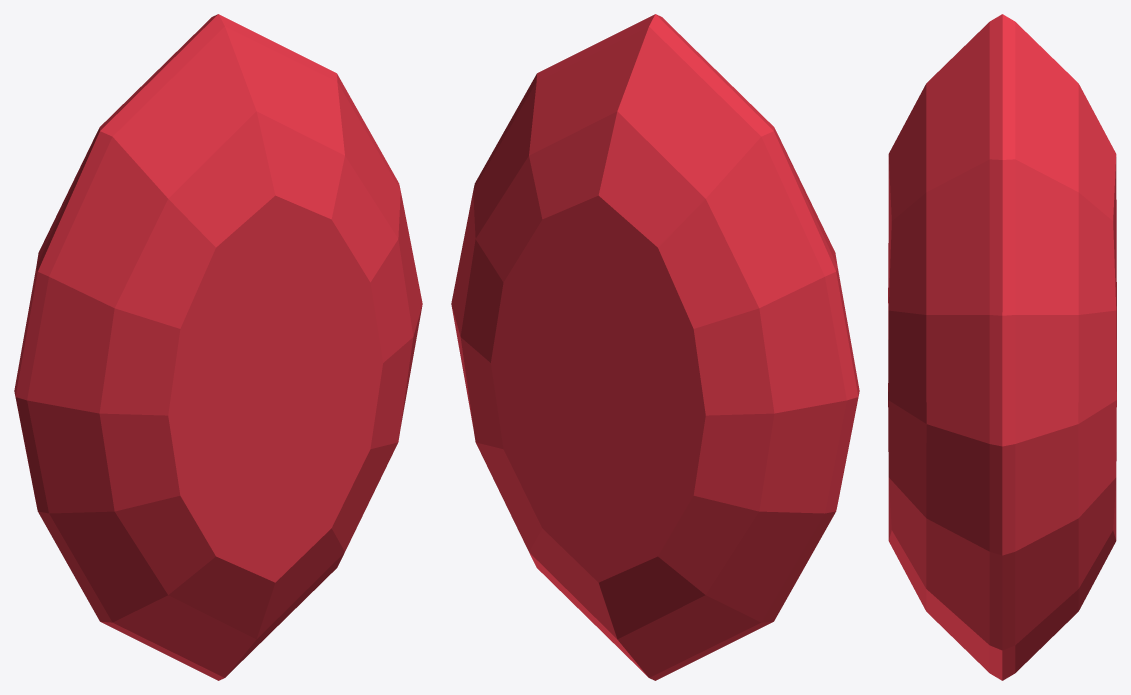
Rendered from Gme.fbx.
3 renders of one model, left to right at view 1: azimuth 30°, elevation 25°; view 2: azimuth 150°, elevation 25°; view 3: azimuth 270°, elevation 25°, orthographic.
Parts seen in each view (by area): view 1: Cube.001; view 2: Cube.001; view 3: Cube.001.
Part boxes in pixels (x1,y1,x2,y2): Cube.001: [14, 14, 422, 680]; Cube.001: [451, 14, 859, 680]; Cube.001: [888, 14, 1116, 680].
Bounding box in the file's own units: 155 × 243 × 75.52.
